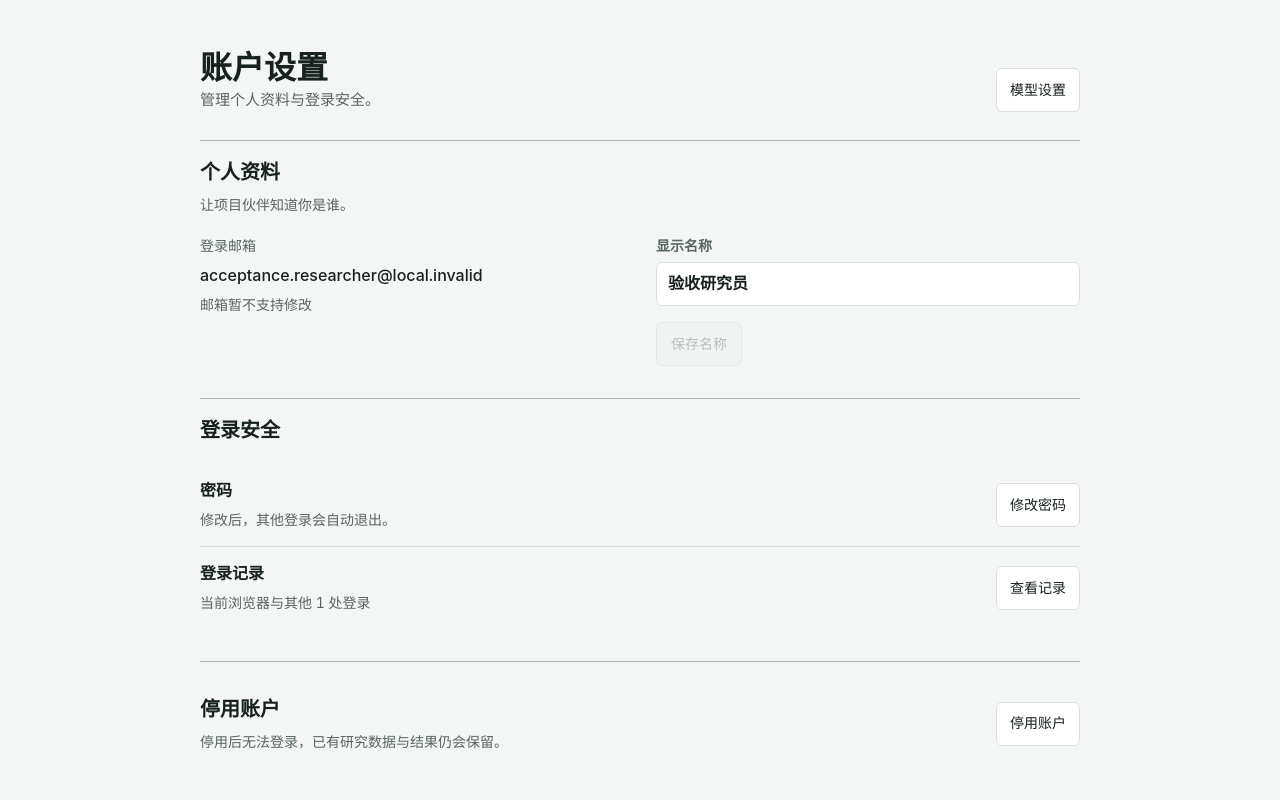
Test: validates and changes the password without rerouting scientific work
Expected: the heading "账户设置" is shown, top-left (200, 48), bottom-right (328, 87)
Click the button "修改密码".
click(1038, 505)  # box top-left (996, 483), bottom-right (1080, 527)
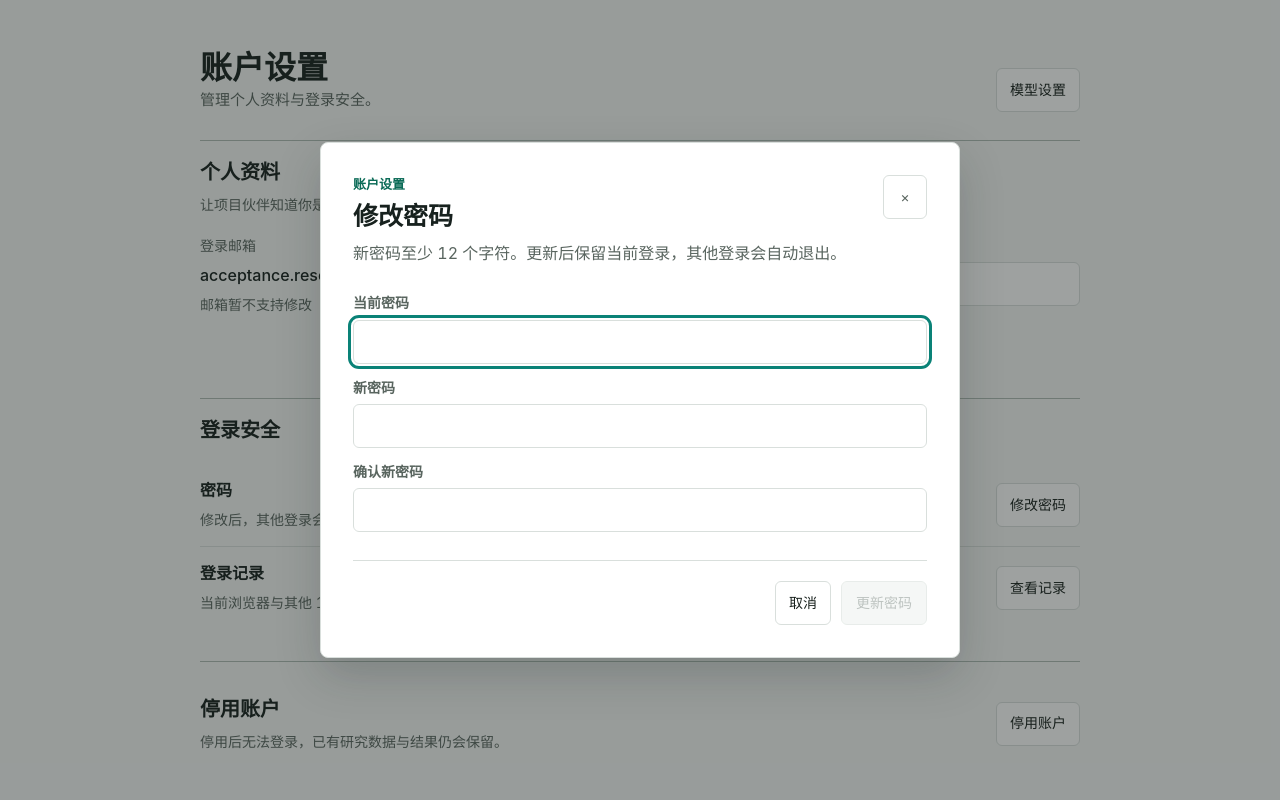
Type "OldPassword-2026!" into the password field labelled "当前密码".
click(640, 342); type("OldPassword-2026!")  # box top-left (353, 320), bottom-right (927, 364)
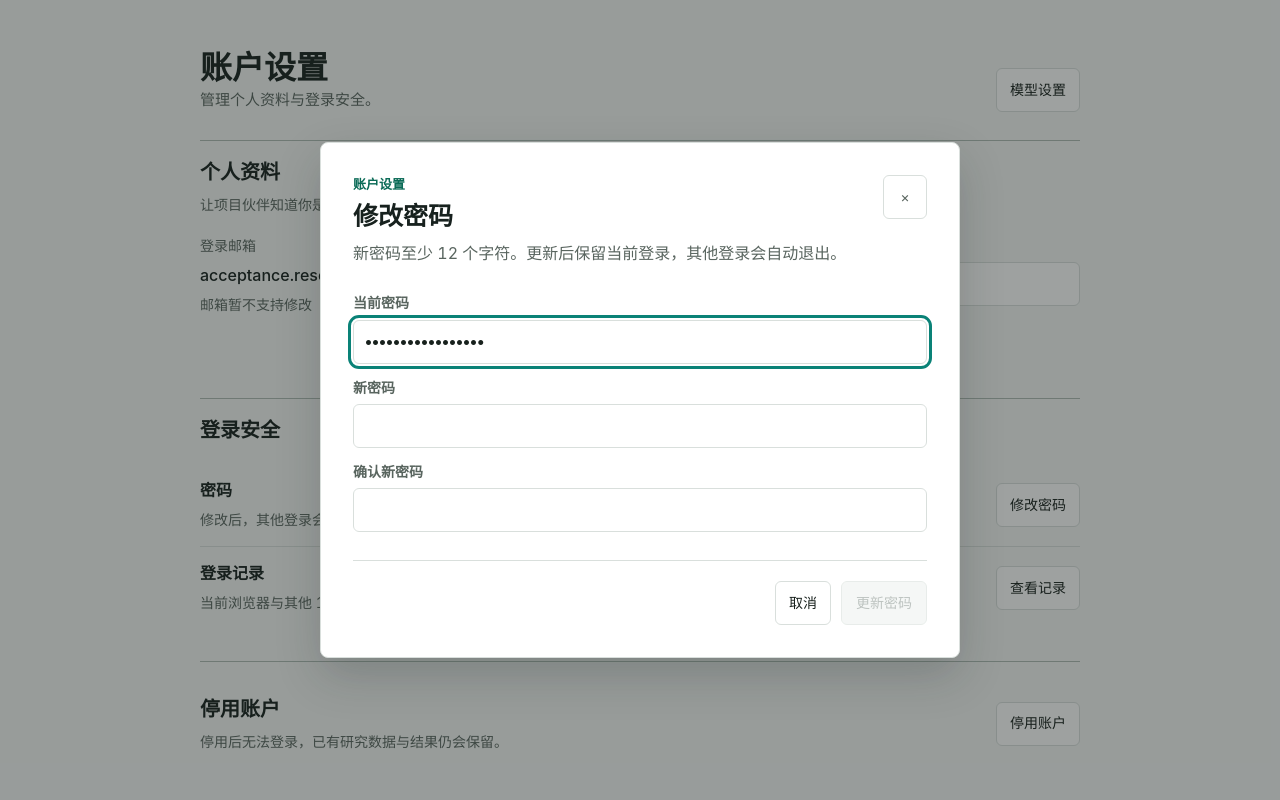
Type "NewPassword-2026!" into the password field labelled "新密码".
click(640, 426); type("NewPassword-2026!")  # box top-left (353, 404), bottom-right (927, 448)
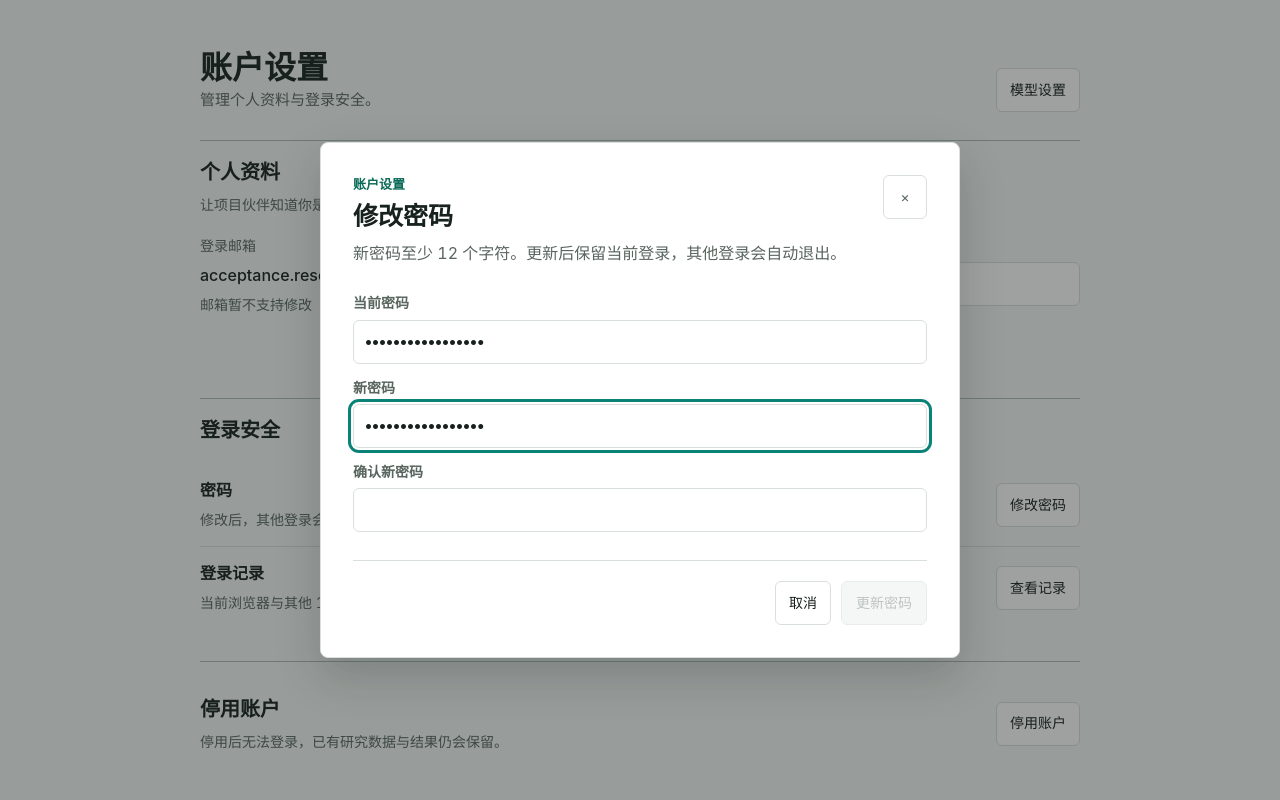
Type "NewPassword-2026!" into the password field labelled "确认新密码".
click(640, 510); type("NewPassword-2026!")  # box top-left (353, 488), bottom-right (927, 532)
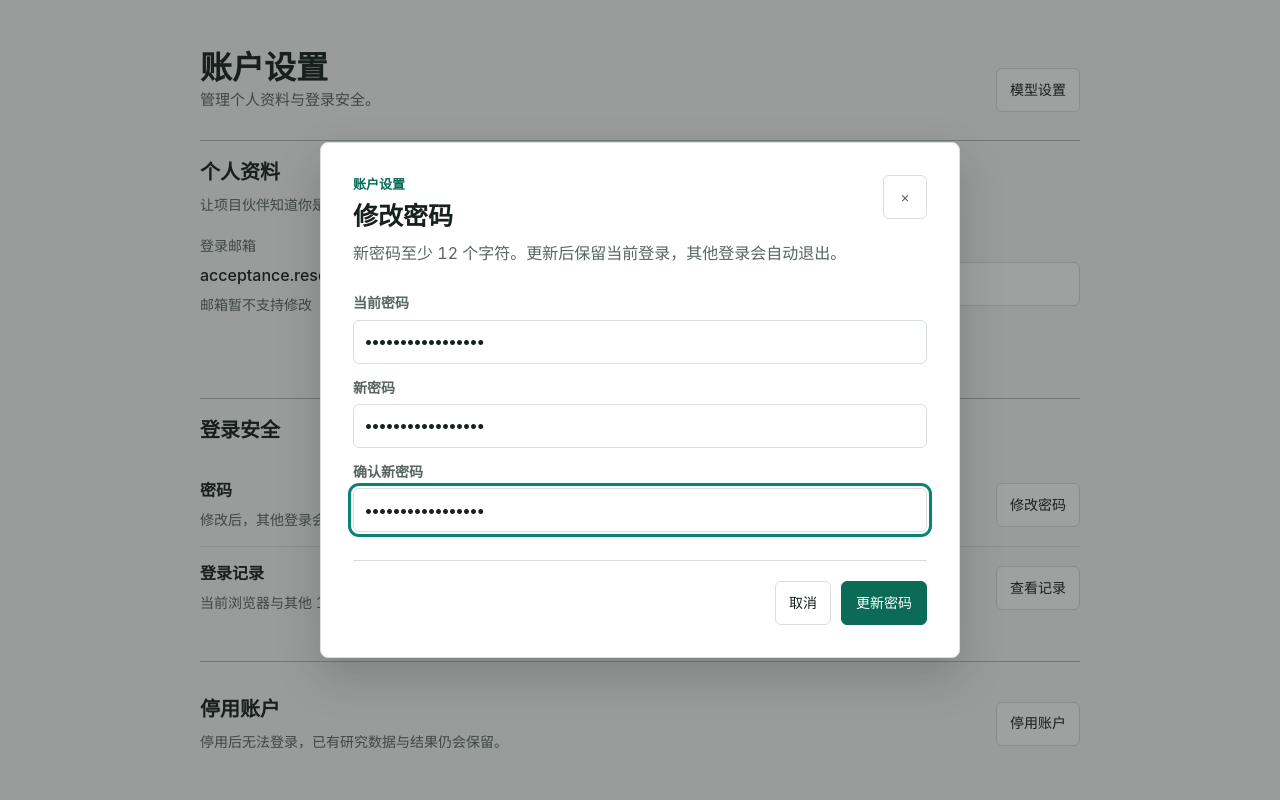
Click the button "更新密码".
click(884, 603)  # box top-left (841, 581), bottom-right (927, 625)
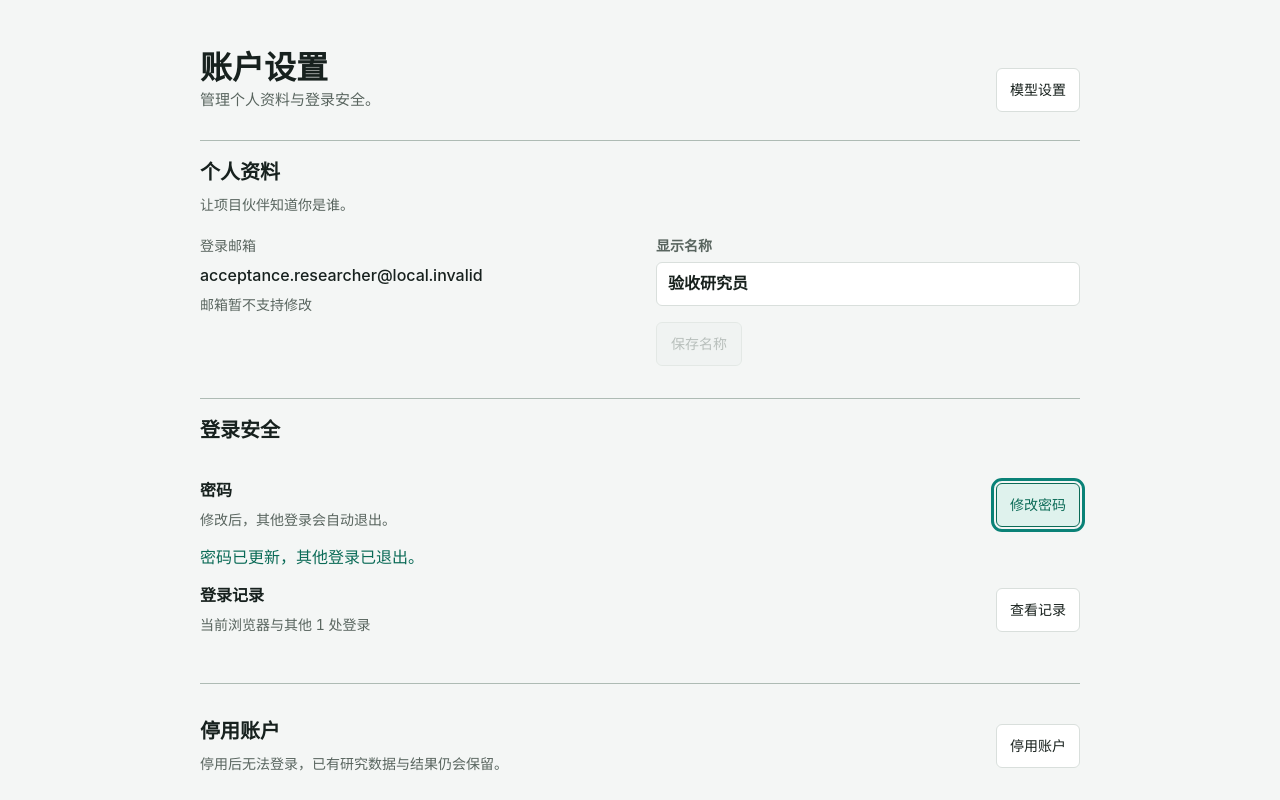
Result: the text "密码已更新，其他登录已退出。" is shown at top-left (200, 547), bottom-right (424, 567)
